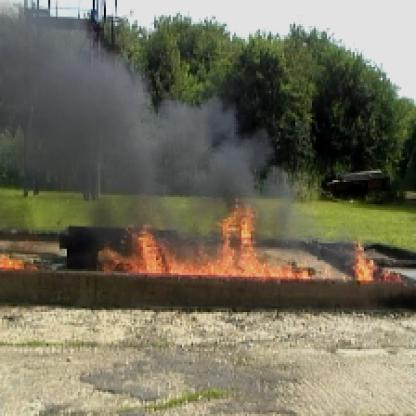Fire: (106, 202, 325, 280), (347, 240, 407, 286)
Smoke: (2, 19, 239, 208)
